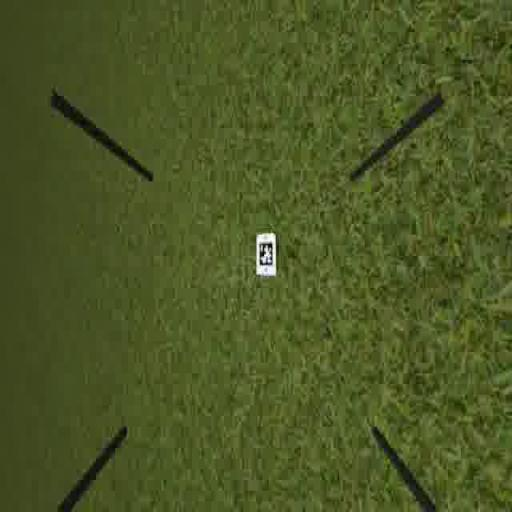UGV: (255, 232, 280, 280)
